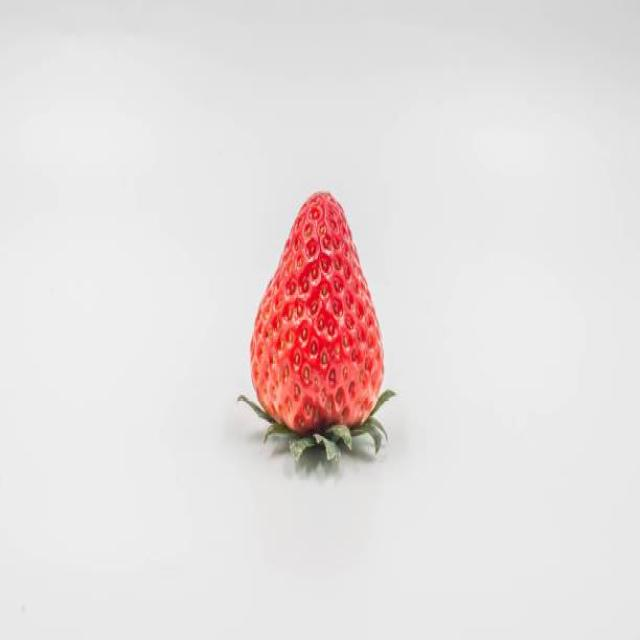Healthy Fruit: (250, 190, 385, 429)
